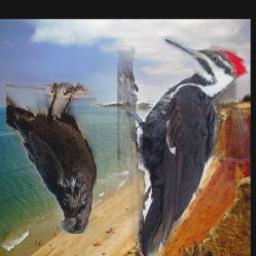Crow: (6, 83, 97, 234)
Woodpecker: (116, 36, 249, 256)
